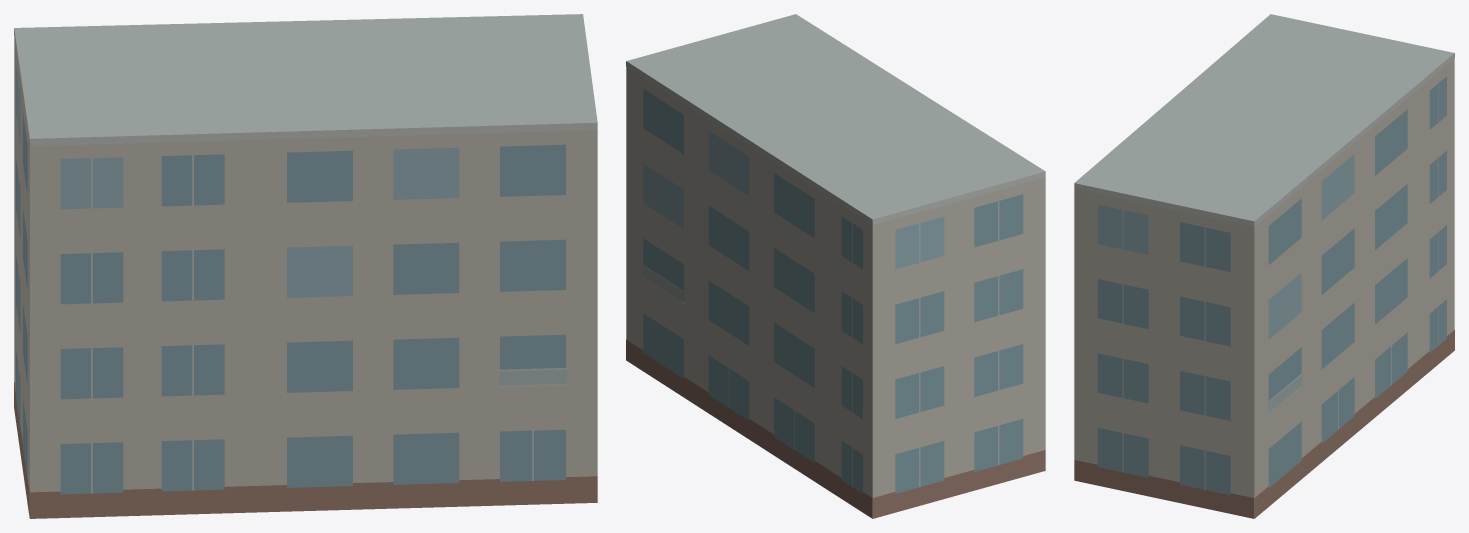
The model's file is survey-upis-32845403.glb.
3 renders of one model, left to right at view 1: azimuth 30°, elevation 25°; view 2: azimuth 150°, elevation 25°; view 3: azimuth 270°, elevation 25°, orthographic. The views are drawn at different scales.
Visible parts, largest first — view 1: survey-upis-32845403.tmp; view 2: survey-upis-32845403.tmp; view 3: survey-upis-32845403.tmp.
Part boxes in pixels (<box>): survey-upis-32845403.tmp: <box>14,14,597,518</box>; survey-upis-32845403.tmp: <box>626,14,1045,518</box>; survey-upis-32845403.tmp: <box>1074,14,1454,518</box>.
Bounding box in the file's own units: 19.15 × 12.8 × 14.85.
